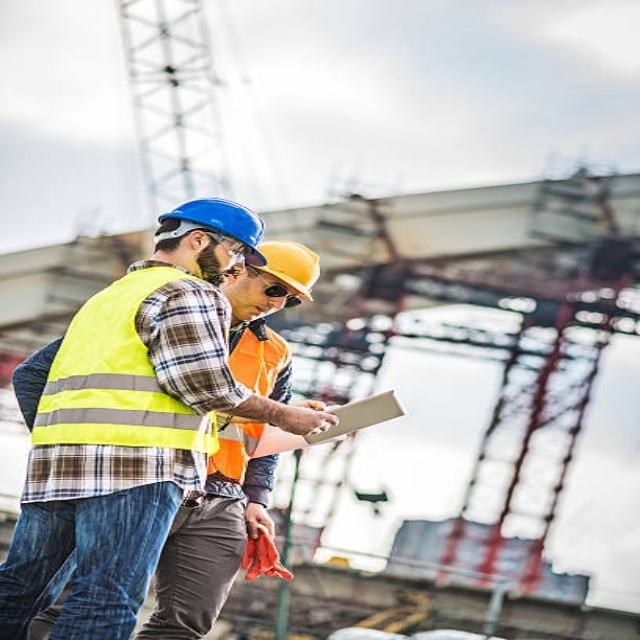Gafas: (249, 267, 309, 308), (199, 233, 248, 257)
Sin_guantes: (277, 402, 343, 438), (243, 503, 281, 546)
Sin_mascara: (238, 303, 284, 321), (212, 264, 248, 280)
